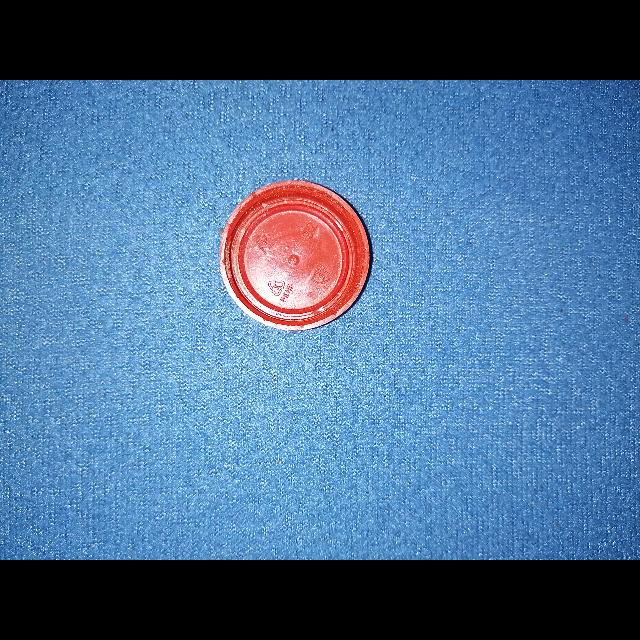plastic_bottle_cap: (220, 180, 372, 332)
